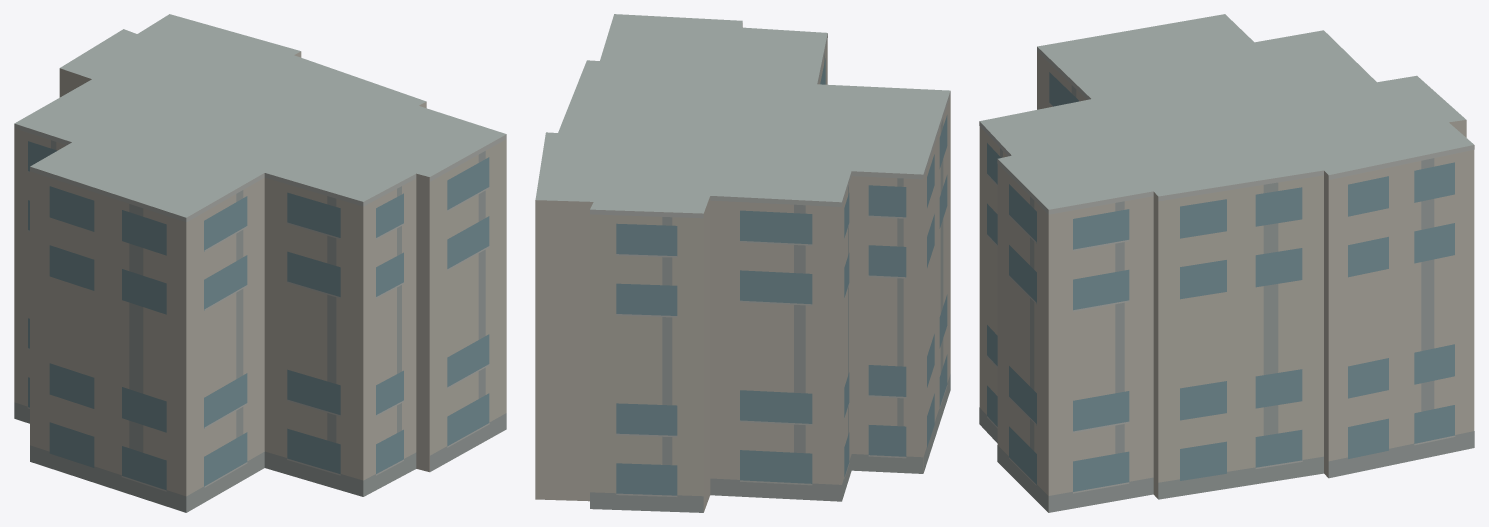
The model's file is survey-upis-32467282.glb.
The picture shows the model from 3 angles, left to right: view 1: azimuth 30°, elevation 25°; view 2: azimuth 150°, elevation 25°; view 3: azimuth 270°, elevation 25°; orthographic projection. The views are drawn at different scales.
Parts seen in each view (by area): view 1: survey-upis-32467282.tmp; view 2: survey-upis-32467282.tmp; view 3: survey-upis-32467282.tmp.
Part boxes in pixels (bbox=[...]): survey-upis-32467282.tmp: bbox=[14, 14, 506, 512]; survey-upis-32467282.tmp: bbox=[535, 14, 950, 512]; survey-upis-32467282.tmp: bbox=[979, 14, 1474, 512].
Bounding box in the file's own units: 21.14 × 15.25 × 22.58.
